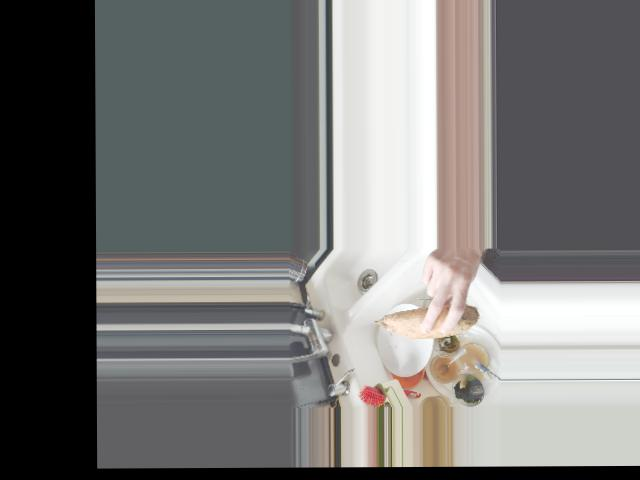sweet_potato: (370, 299, 482, 338)
